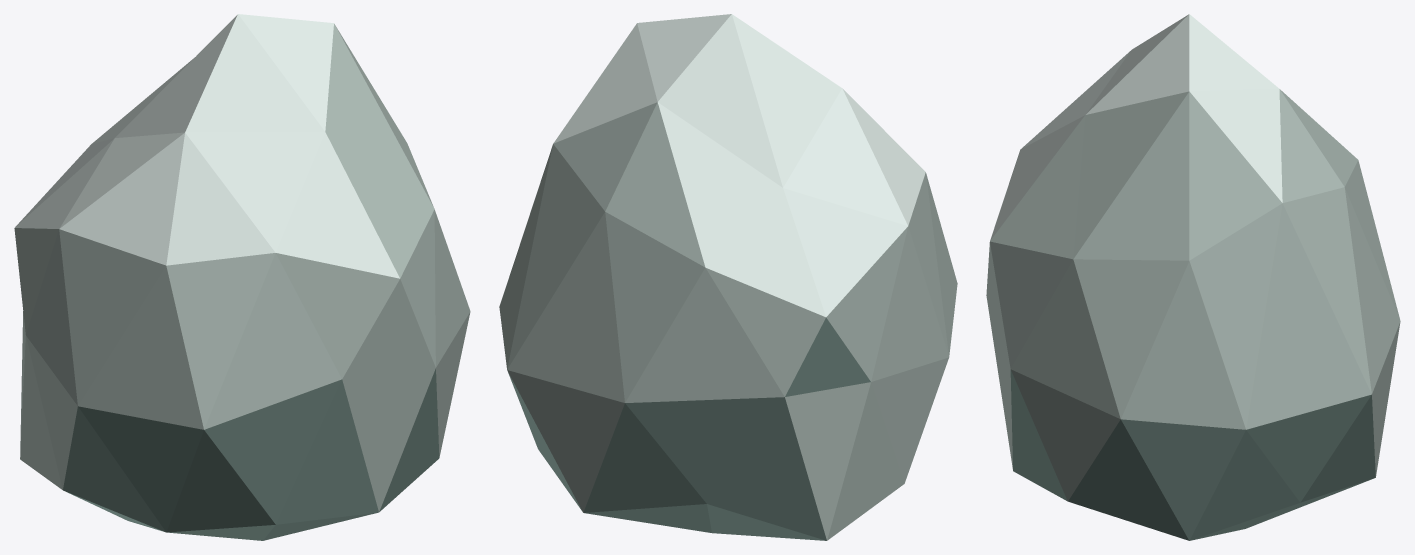
File: rock-c.glb
The picture shows the model from 3 angles, left to right: view 1: azimuth 30°, elevation 25°; view 2: azimuth 150°, elevation 25°; view 3: azimuth 270°, elevation 25°; orthographic projection. The views are drawn at different scales.
Parts seen in each view (by area): view 1: weathered-rock; view 2: weathered-rock; view 3: weathered-rock.
Part boxes in pixels (x1,y1,x2,y2): weathered-rock: (14,14,470,540); weathered-rock: (499,14,957,540); weathered-rock: (986,14,1400,540).
Bounding box in the file's own units: 2.11 × 2.44 × 1.95.
